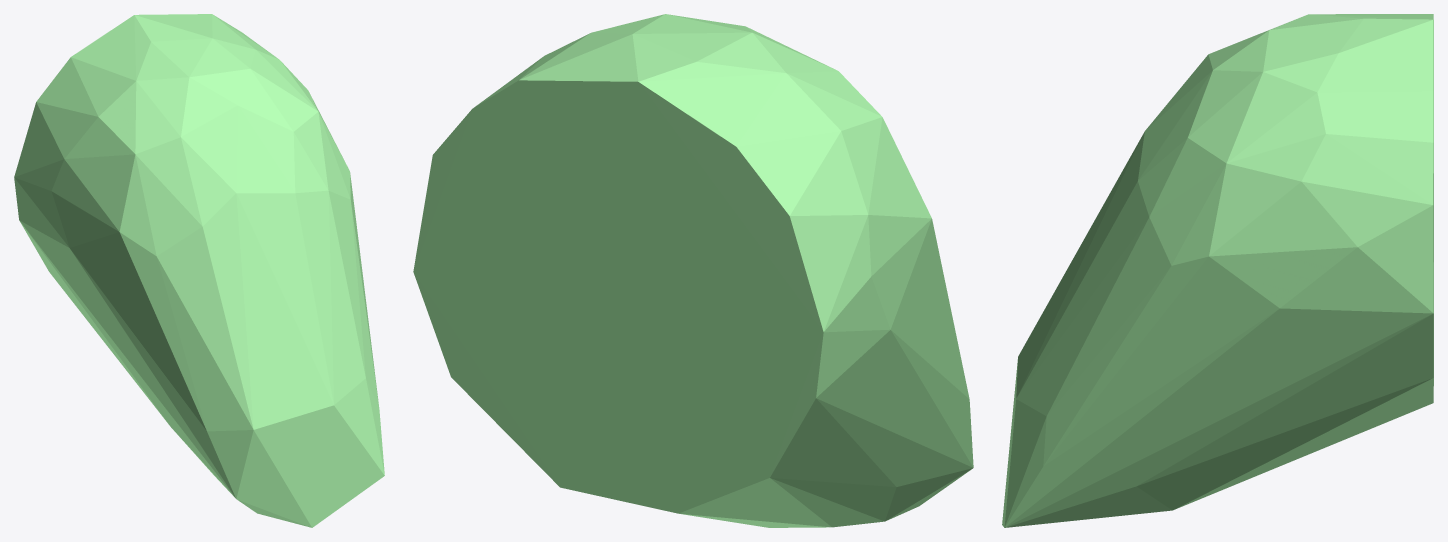
File: dualpanda_Panda_rightArm_link5_respondable_coll_7.dae
The picture shows the model from 3 angles, left to right: view 1: azimuth 30°, elevation 25°; view 2: azimuth 150°, elevation 25°; view 3: azimuth 270°, elevation 25°; orthographic projection. The views are drawn at different scales.
Visible parts, largest first — view 1: node; view 2: node; view 3: node.
Part boxes in pixels (<box>): node: <box>14,14,384,527</box>; node: <box>413,14,973,527</box>; node: <box>1002,14,1433,527</box>.
Size of the model in its own units: 0.1106 by 0.1554 by 0.1217.
